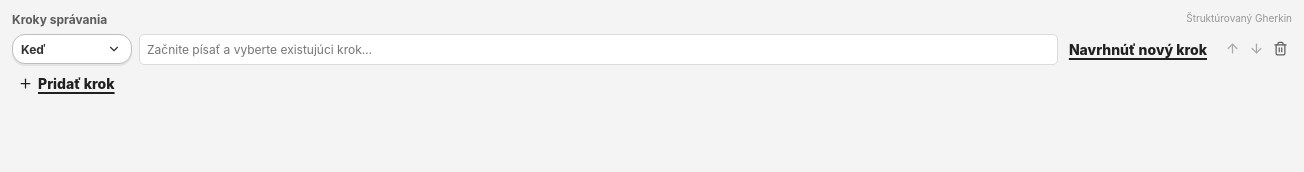
Test: BDDStepsEditor › offers compatible approved definitions before a new proposal
Step 1. Type "podpise" into the dropdown named "Vyhľadať definíciu kroku 1" → x=598, y=50, box [139,34,1058,65]
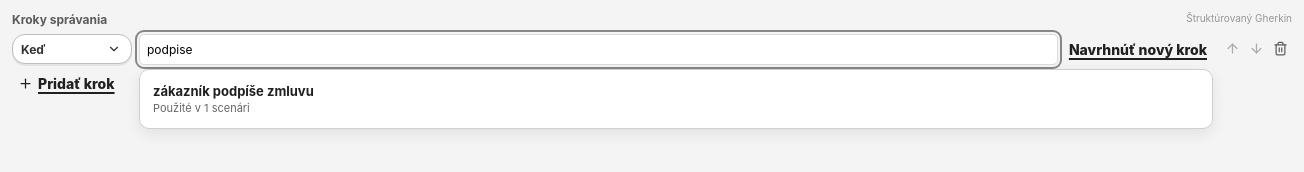
Step 2. Click the option "zákazník podpíše zmluvu Použité v 1 scenári" → x=233, y=91, box [145,75,1207,123]
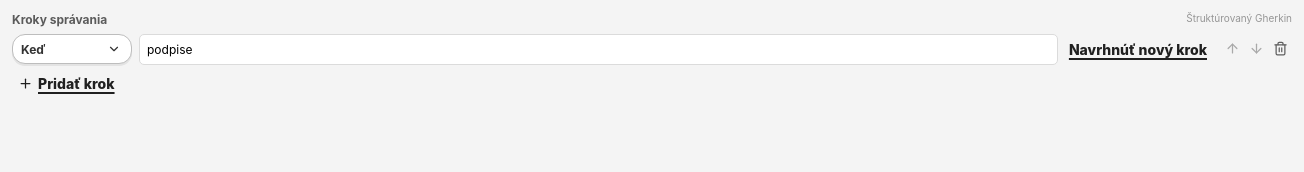
Step 3. Click the button "Navrhnúť nový krok" → x=1138, y=50, box [1063,34,1213,65]
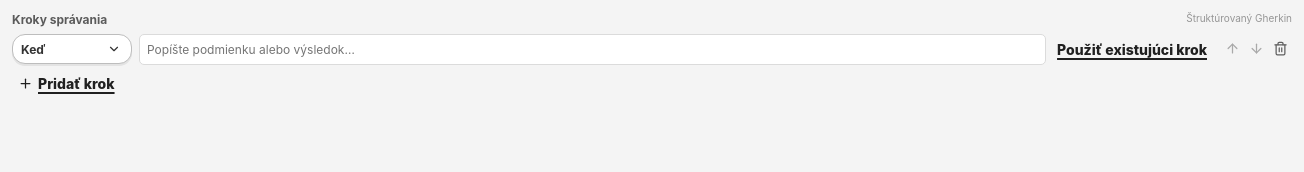
Now the field named "Nová definícia kroku 1" is shown, box [139,34,1046,65]
